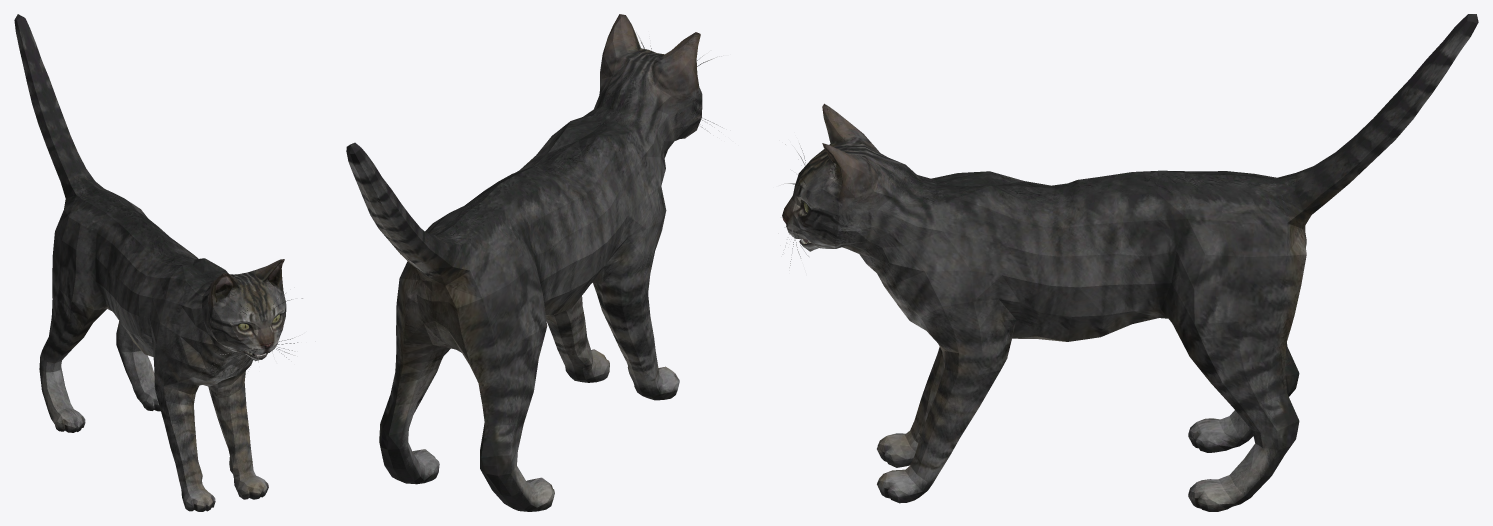
Rendered from WQE6TY36FR6PMSLSUXJU0DS78.obj.
3 renders of one model, left to right at view 1: azimuth 30°, elevation 25°; view 2: azimuth 150°, elevation 25°; view 3: azimuth 270°, elevation 25°, orthographic. The views are drawn at different scales.
Parts seen in each view (by area): view 1: Object_Cat_D.jpg; view 2: Object_Cat_D.jpg; view 3: Object_Cat_D.jpg.
Boxes of the visible parts, <box> form: Object_Cat_D.jpg: <box>14,14,315,511</box>; Object_Cat_D.jpg: <box>346,14,723,511</box>; Object_Cat_D.jpg: <box>779,14,1478,511</box>.
Bounding box in the file's own units: 0.6602 × 1.82 × 2.5.
Materials: 1 (1 with a texture image).
